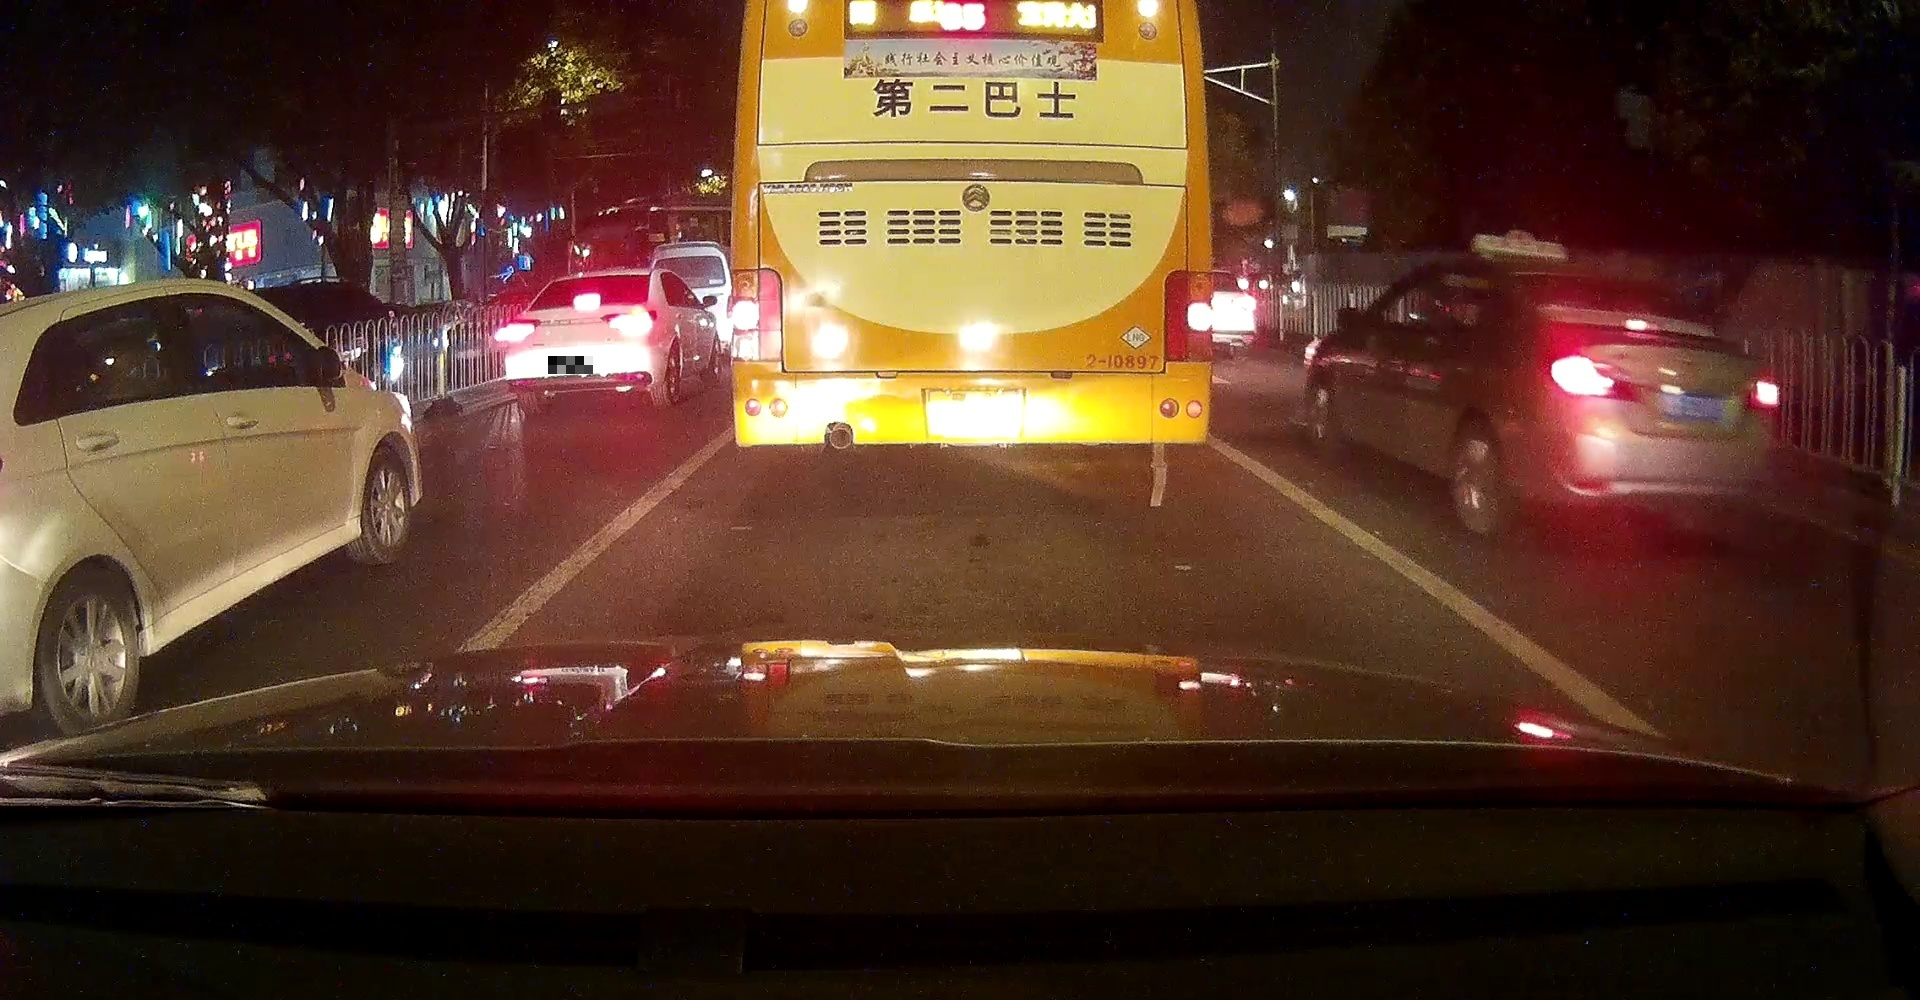L_light: (1545, 346, 1644, 404), (494, 317, 541, 341)
R_light: (599, 308, 657, 335), (1745, 374, 1780, 412)
T_light: (1623, 316, 1660, 332), (571, 293, 602, 311)
night-brake: (1505, 263, 1782, 527), (493, 272, 662, 412)
plate_1: (549, 357, 593, 374)
